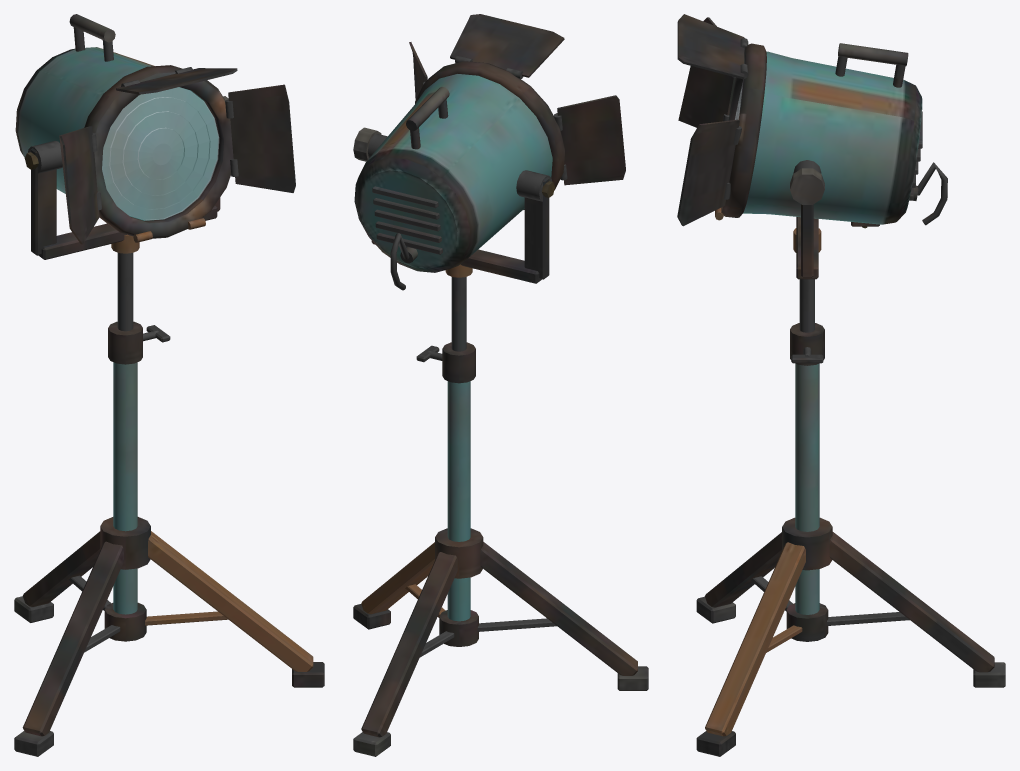
File: Q10_spotlight_on_stand.glb
3 views of the same model, side by side, from view 1: azimuth 30°, elevation 25°; view 2: azimuth 150°, elevation 25°; view 3: azimuth 270°, elevation 25° (orthographic). The views are drawn at different scales.
Visible parts, largest first — view 1: Tripod leg; view 2: Tripod leg; view 3: Tripod leg.
Boxes of the visible parts, x1,y1,x2,y2 form: Tripod leg: (14,14,324,756); Tripod leg: (353,14,648,756); Tripod leg: (677,14,1005,756).
Size of the model in its own units: 0.7499 by 1.5 by 0.6916.
Materials: 7 (6 with a texture image).
